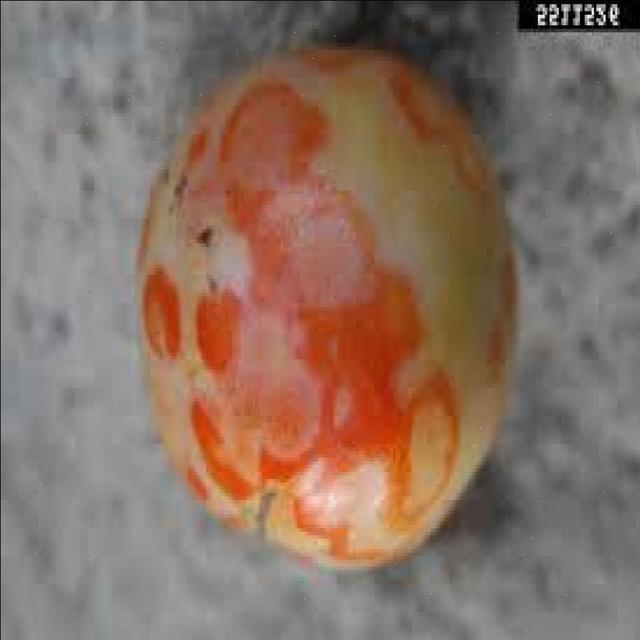Spotted wilt Virus Fruit: (118, 216, 448, 511)
